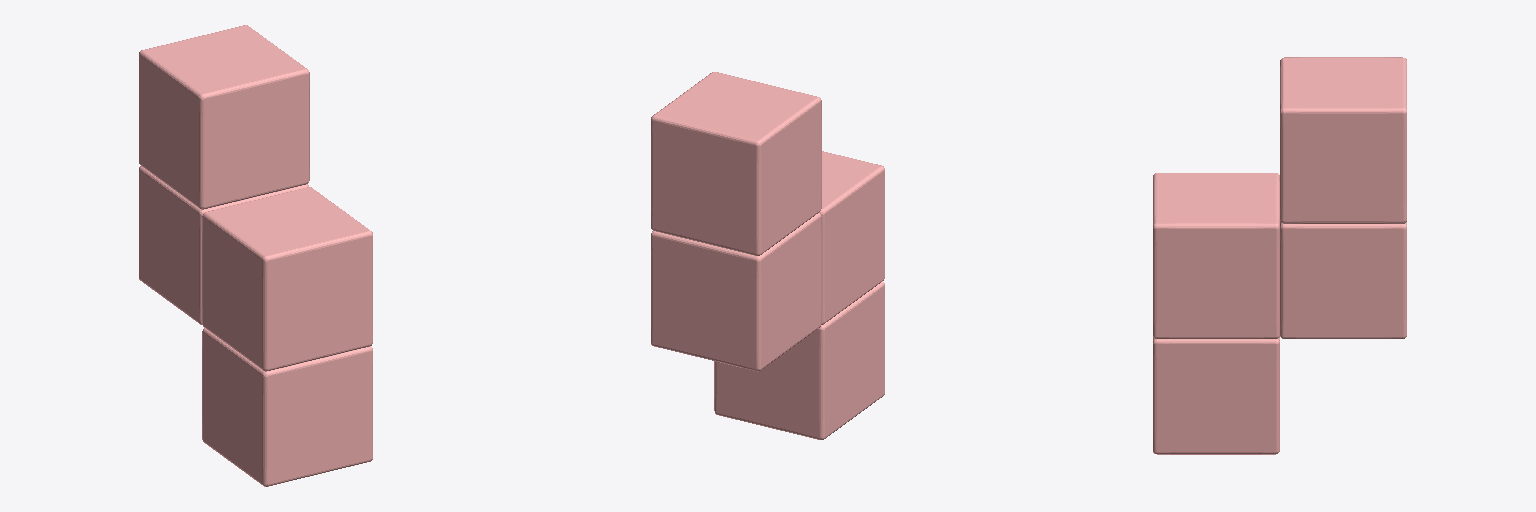
File: Tetris-InvS.obj
3 views of the same model, side by side, from view 1: azimuth 30°, elevation 25°; view 2: azimuth 150°, elevation 25°; view 3: azimuth 270°, elevation 25° (orthographic).
Size of the model in its own units: 15 by 45 by 30.